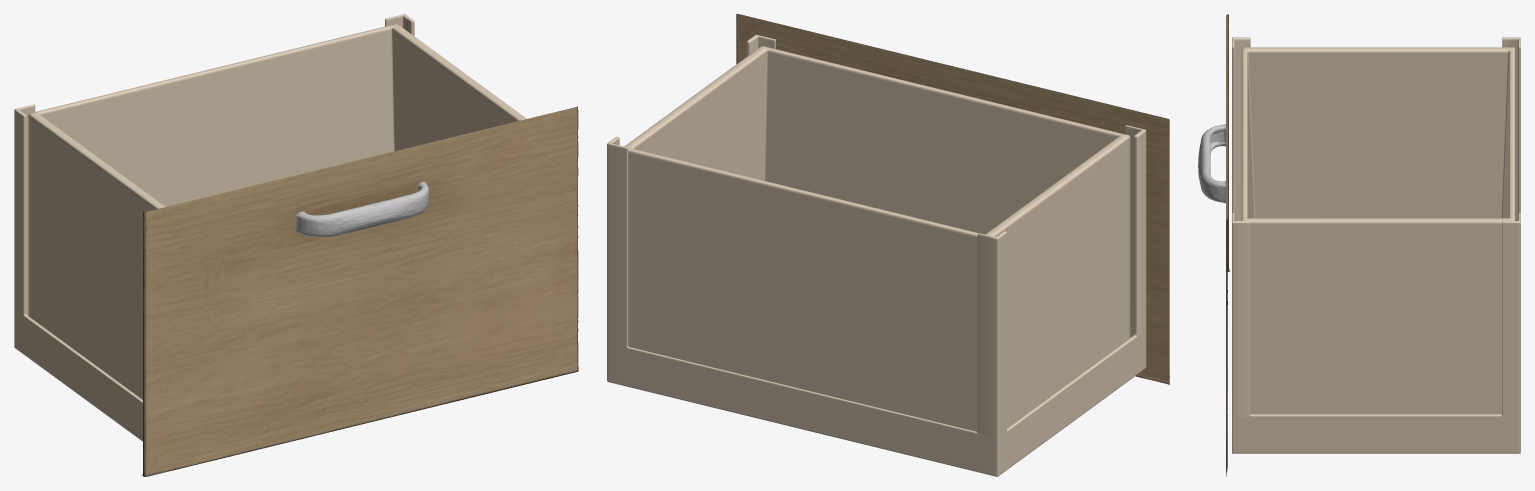
The model's file is drawer_bottom.glb.
3 views of the same model, side by side, from view 1: azimuth 30°, elevation 25°; view 2: azimuth 150°, elevation 25°; view 3: azimuth 270°, elevation 25° (orthographic). The views are drawn at different scales.
Parts seen in each view (by area): view 1: source_front_cap_0, prefab_drawer_body_2; view 2: prefab_drawer_body_2, source_front_cap_0; view 3: prefab_drawer_body_2, source_front_cap_0.
Part boxes in pixels (x1=…): source_front_cap_0: x1=141, y1=106, x2=578, y2=476; prefab_drawer_body_2: x1=14, y1=14, x2=526, y2=441; prefab_drawer_body_2: x1=607, y1=34, x2=1146, y2=476; source_front_cap_0: x1=736, y1=14, x2=1169, y2=384; prefab_drawer_body_2: x1=1232, y1=37, x2=1520, y2=453; source_front_cap_0: x1=1198, y1=14, x2=1230, y2=475.
Size of the model in its own units: 0.4001 by 0.2336 by 0.2654.
Materials: 2 (1 with a texture image).
